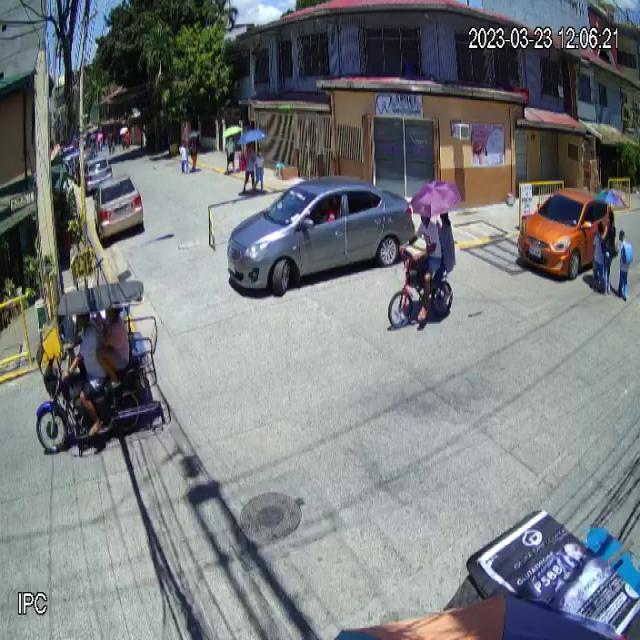Car: (226, 174, 416, 299), (517, 186, 615, 281)
Tricycle: (35, 281, 164, 454)
